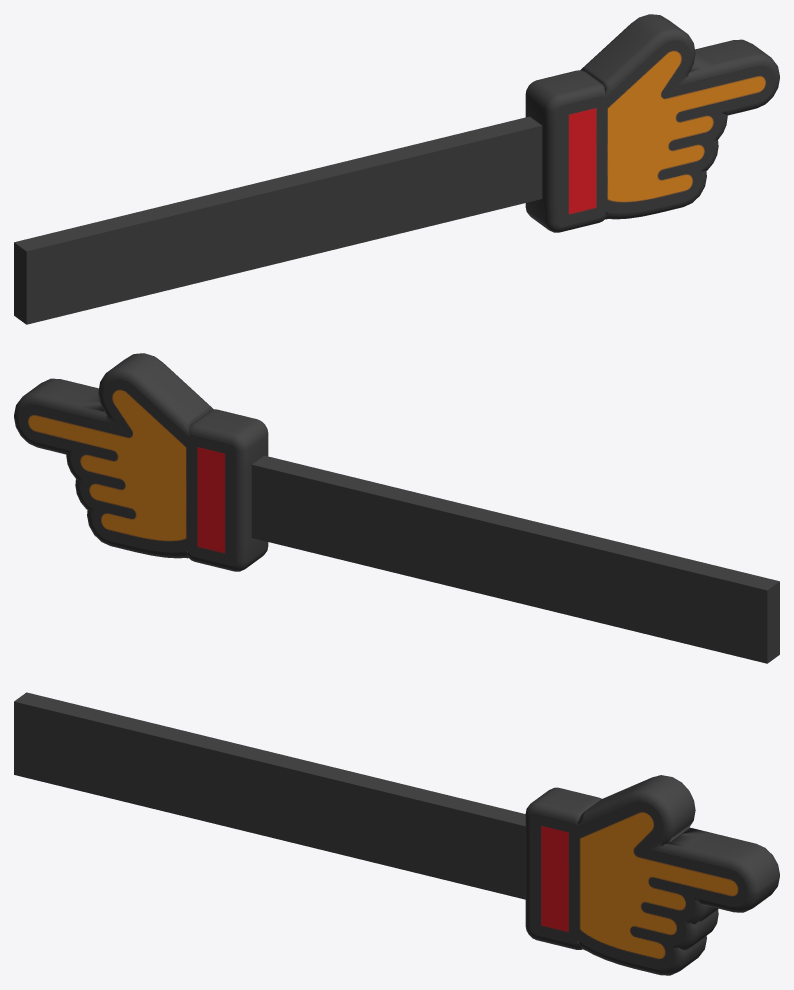
Rendered from clapMeterNeedle.glb.
3 views of the same model, one above another, from view 1: azimuth 30°, elevation 25°; view 2: azimuth 150°, elevation 25°; view 3: azimuth 330°, elevation 25° (orthographic).
Parts seen in each view (by area): view 1: Cube, Curve.073; view 2: Cube, Curve.073; view 3: Cube, Curve.073.
Part boxes in pixels (x1,y1,x2,y2): Cube: [14, 116, 542, 324]; Curve.073: [525, 14, 779, 232]; Cube: [251, 455, 779, 663]; Curve.073: [14, 353, 268, 571]; Cube: [14, 692, 525, 899]; Curve.073: [525, 775, 779, 975].
Bounding box in the file's own units: 1.98 × 0.4566 × 0.1257.
1 material, 1 textured.
